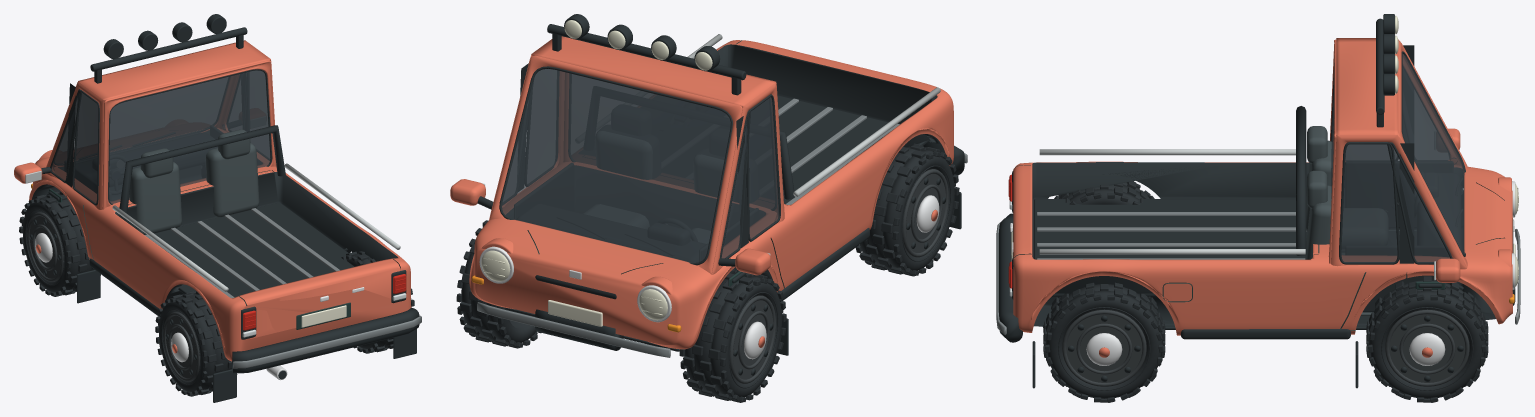
Rendered from hauler.fbx.
3 views of the same model, side by side, from view 1: azimuth 30°, elevation 25°; view 2: azimuth 150°, elevation 25°; view 3: azimuth 270°, elevation 25° (orthographic). The views are drawn at different scales.
Parts seen in each view (by area): view 1: Body, Wheel_RL_Mesh, Wheel_FL_Mesh, Wheel_RR_Mesh; view 2: Body, Wheel_FL_Mesh, Wheel_RL_Mesh, Wheel_FR_Mesh; view 3: Body, Wheel_FR_Mesh, Wheel_RR_Mesh, Wheel_RL_Mesh.
Part boxes in pixels (x1=…): Body: x1=14, y1=14, x2=421, y2=402; Wheel_RL_Mesh: x1=155, y1=291, x2=237, y2=396; Wheel_FL_Mesh: x1=19, y1=191, x2=100, y2=296; Wheel_RR_Mesh: x1=341, y1=251, x2=414, y2=353; Body: x1=450, y1=14, x2=967, y2=357; Wheel_FL_Mesh: x1=679, y1=269, x2=786, y2=402; Wheel_RL_Mesh: x1=855, y1=143, x2=959, y2=276; Wheel_FR_Mesh: x1=456, y1=220, x2=541, y2=348; Body: x1=996, y1=14, x2=1520, y2=388; Wheel_FR_Mesh: x1=1366, y1=276, x2=1488, y2=402; Wheel_RR_Mesh: x1=1043, y1=282, x2=1165, y2=402; Wheel_RL_Mesh: x1=1054, y1=181, x2=1154, y2=204.
Size of the model in its own units: 230 by 225 by 357.
